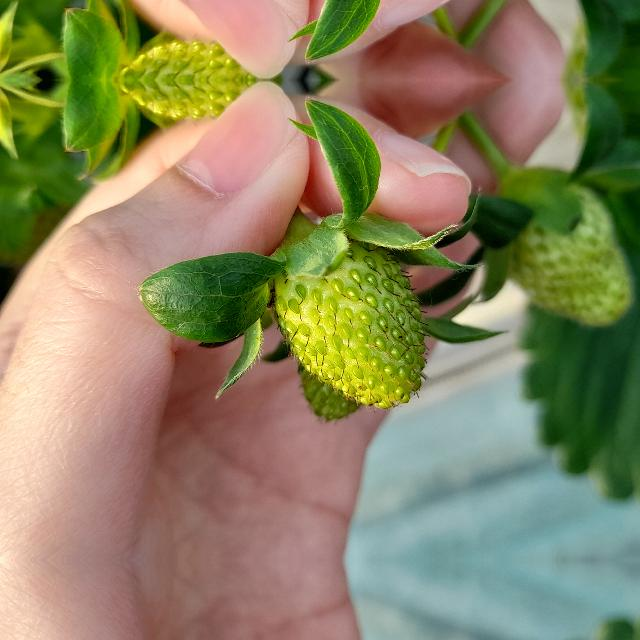Health_25: (273, 240, 429, 412)
